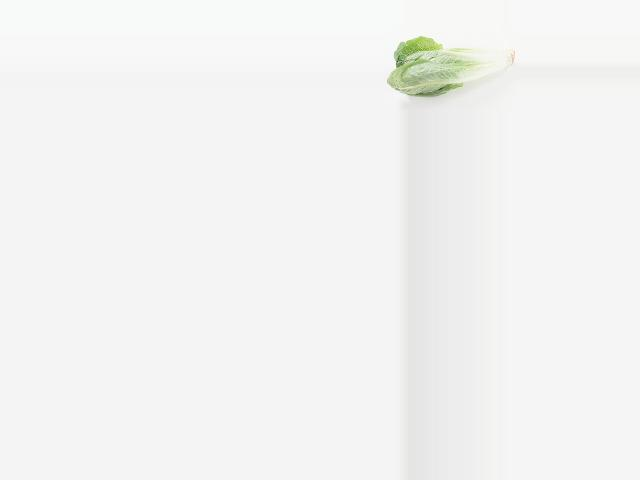lettuce: (386, 34, 521, 100)
